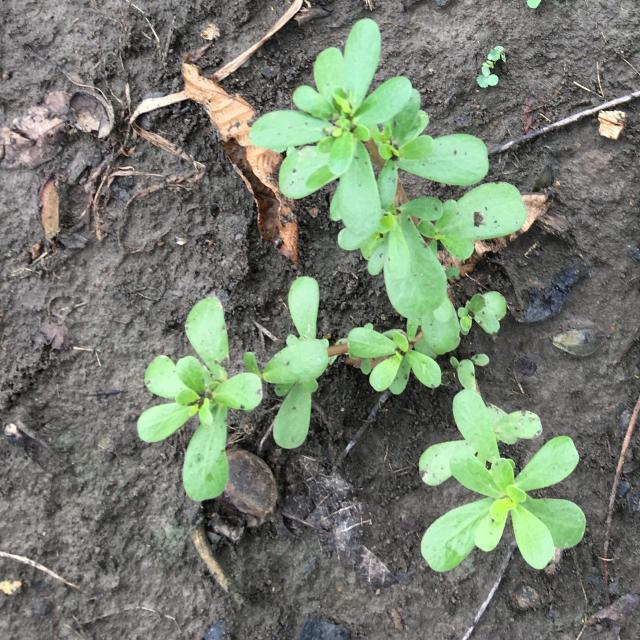Purslane: (136, 18, 527, 502), (419, 353, 587, 572)
